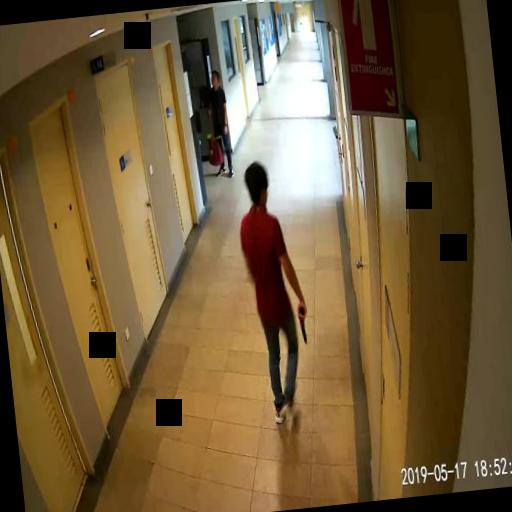Handgun: (296, 302, 308, 341)
